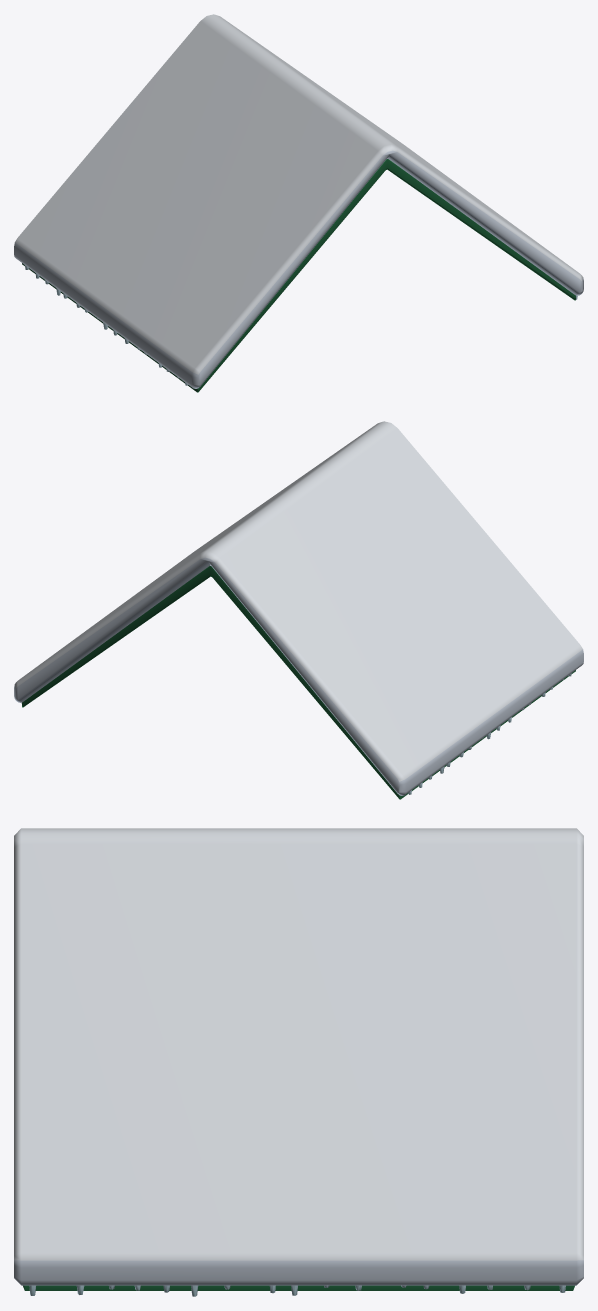
File: CandyHouse_Pink_Roof.glb
The picture shows the model from 3 angles, top to bottom: view 1: azimuth 30°, elevation 25°; view 2: azimuth 150°, elevation 25°; view 3: azimuth 270°, elevation 25°; orthographic projection. The views are drawn at different scales.
Visible parts, largest first — view 1: CandyHouse_Pink_Roof; view 2: CandyHouse_Pink_Roof; view 3: CandyHouse_Pink_Roof.
Boxes of the visible parts, <box> form: CandyHouse_Pink_Roof: <box>14,14,583,392</box>; CandyHouse_Pink_Roof: <box>14,421,583,799</box>; CandyHouse_Pink_Roof: <box>14,828,583,1296</box>.
Bounding box in the file's own units: 29.2 × 14.5 × 23.5.
